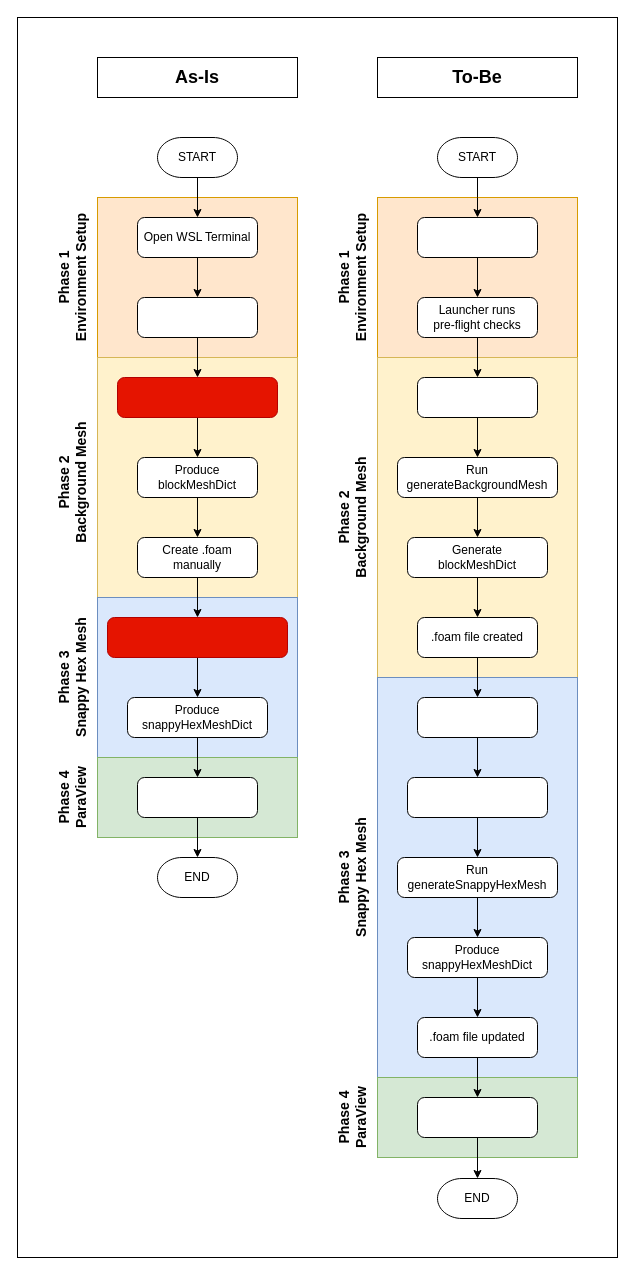
This 635x1275 diagram has some shape labels left out. Each missing label, with the box of its shape:
Configure refinement and layers: (406, 776, 548, 818)
Navigate to case directory: (136, 296, 258, 338)
Open ParaView: (416, 1096, 538, 1138)
Open ParaView manually: (136, 776, 258, 818)
Run manually generateBackgroundMesh: (116, 376, 278, 418)
Run manually generateSnappyHexMeshDict: (106, 616, 288, 658)
Run OpenFOAM_GUI.exe: (416, 216, 538, 258)
Select STL file: (416, 376, 538, 418)
Select STL files: (416, 696, 538, 738)
